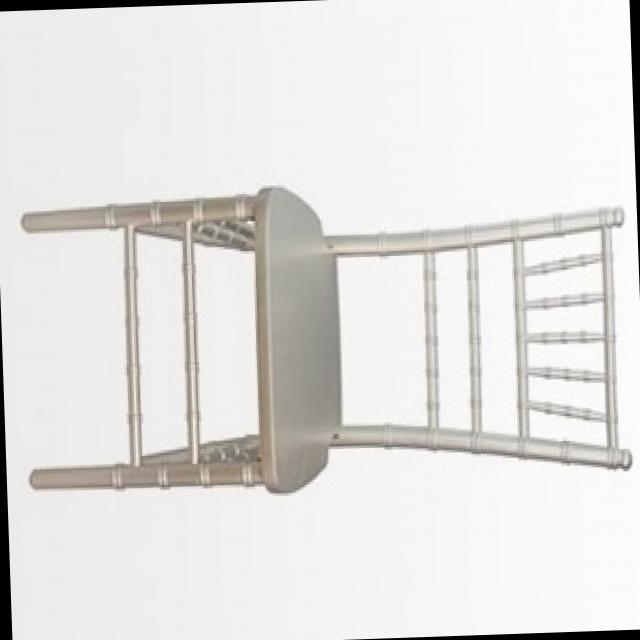Chair: (3, 170, 634, 510)
